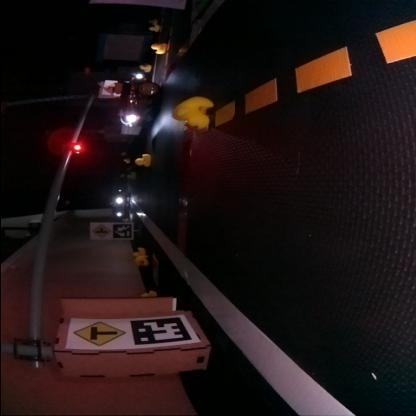Duckie: (170, 98, 208, 128), (134, 154, 148, 166), (150, 43, 164, 53), (132, 247, 144, 257), (134, 256, 146, 263)
Duckiebot: (119, 80, 156, 124), (111, 190, 127, 218)
Intersection sign: (72, 321, 120, 347), (88, 223, 107, 239)
QR code: (129, 316, 191, 344), (112, 223, 130, 240)
Traffic light: (63, 142, 82, 154)
